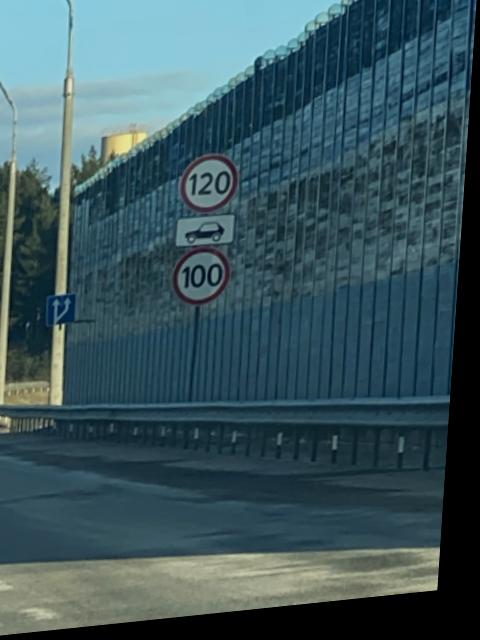limit100: (172, 241, 241, 319)
limit120: (178, 149, 247, 224)
